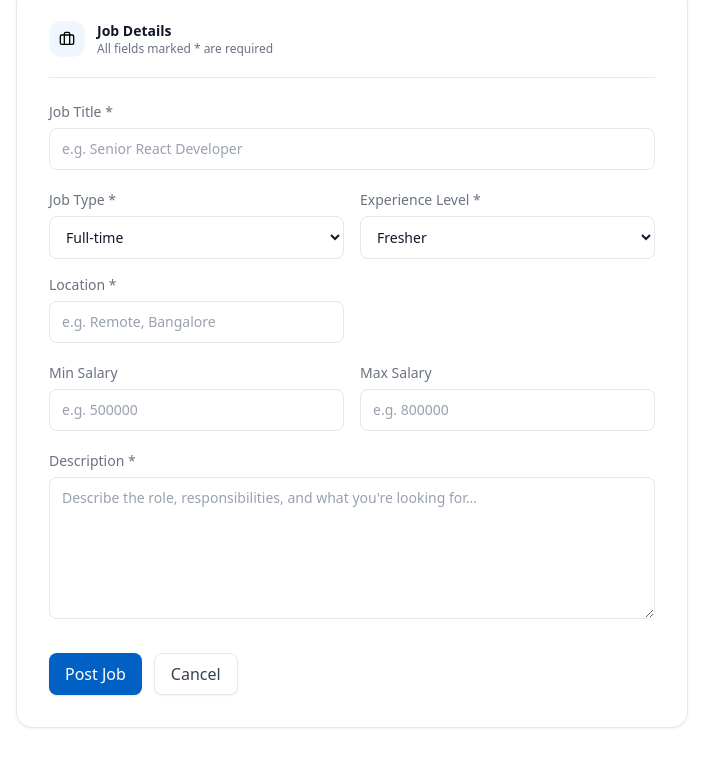
Test: JobFormPage — create › shows title required error on empty submit
(page scrolled)
Step 1. Click the button "Post Job" → point(95, 674), box x1=49 y1=653 x2=142 y2=695
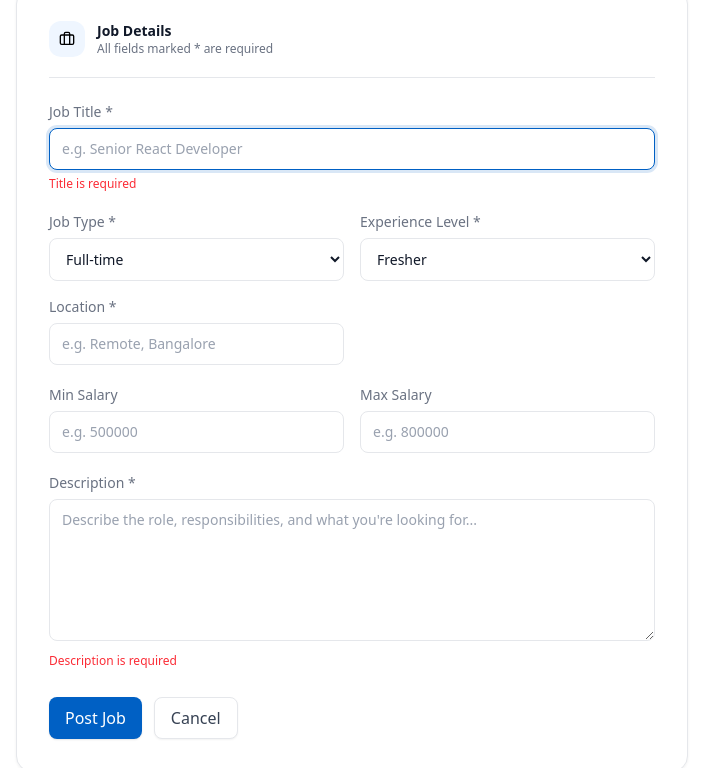
expect the text "Title is required" is shown: met, box x1=49 y1=175 x2=136 y2=192
